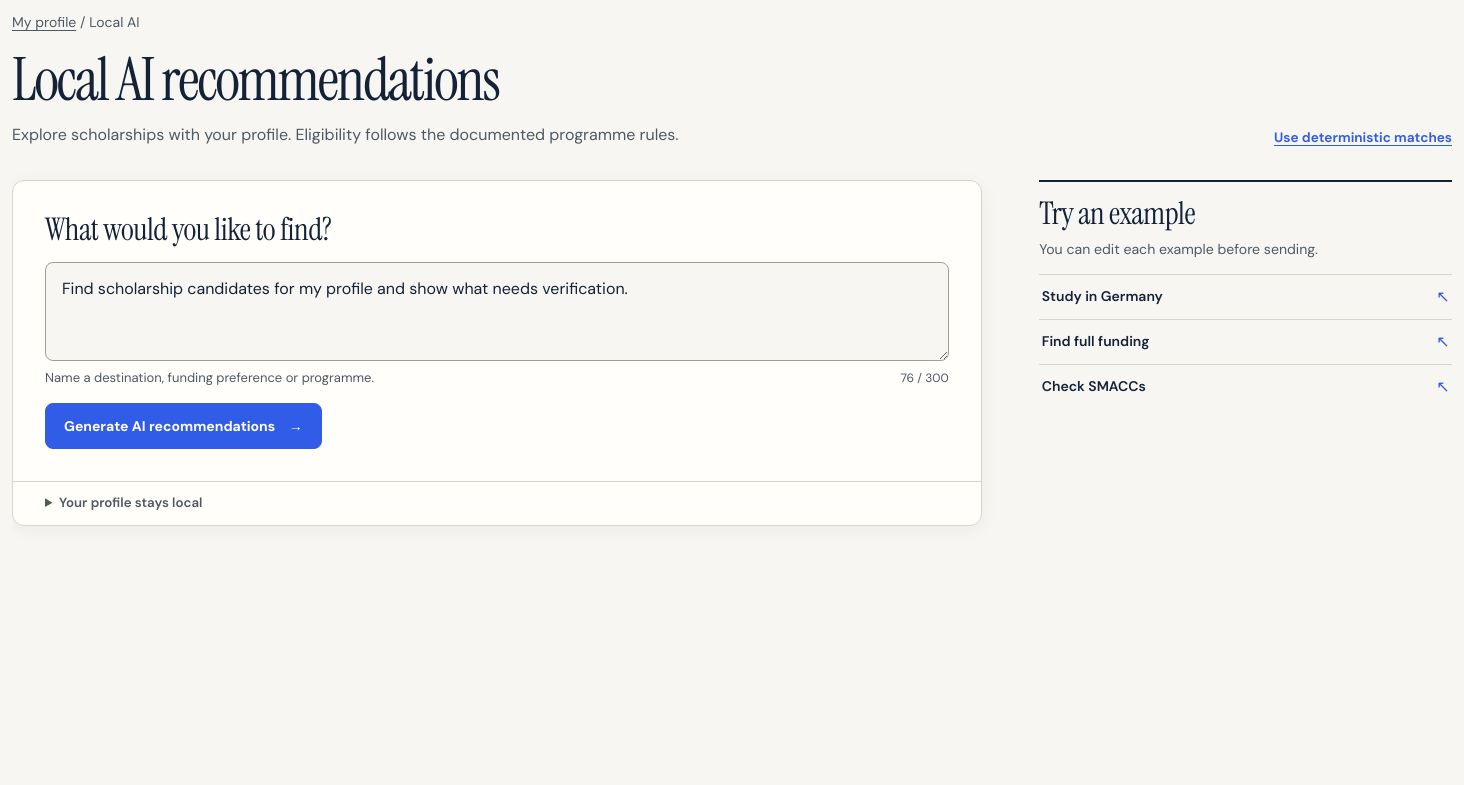
Scenario: local agent recommendations › retains discovery candidates when the model selects a subset and avoids duplicate cards
Click the button "Generate AI recommendations →" at (183, 426), box [45,403,322,449]
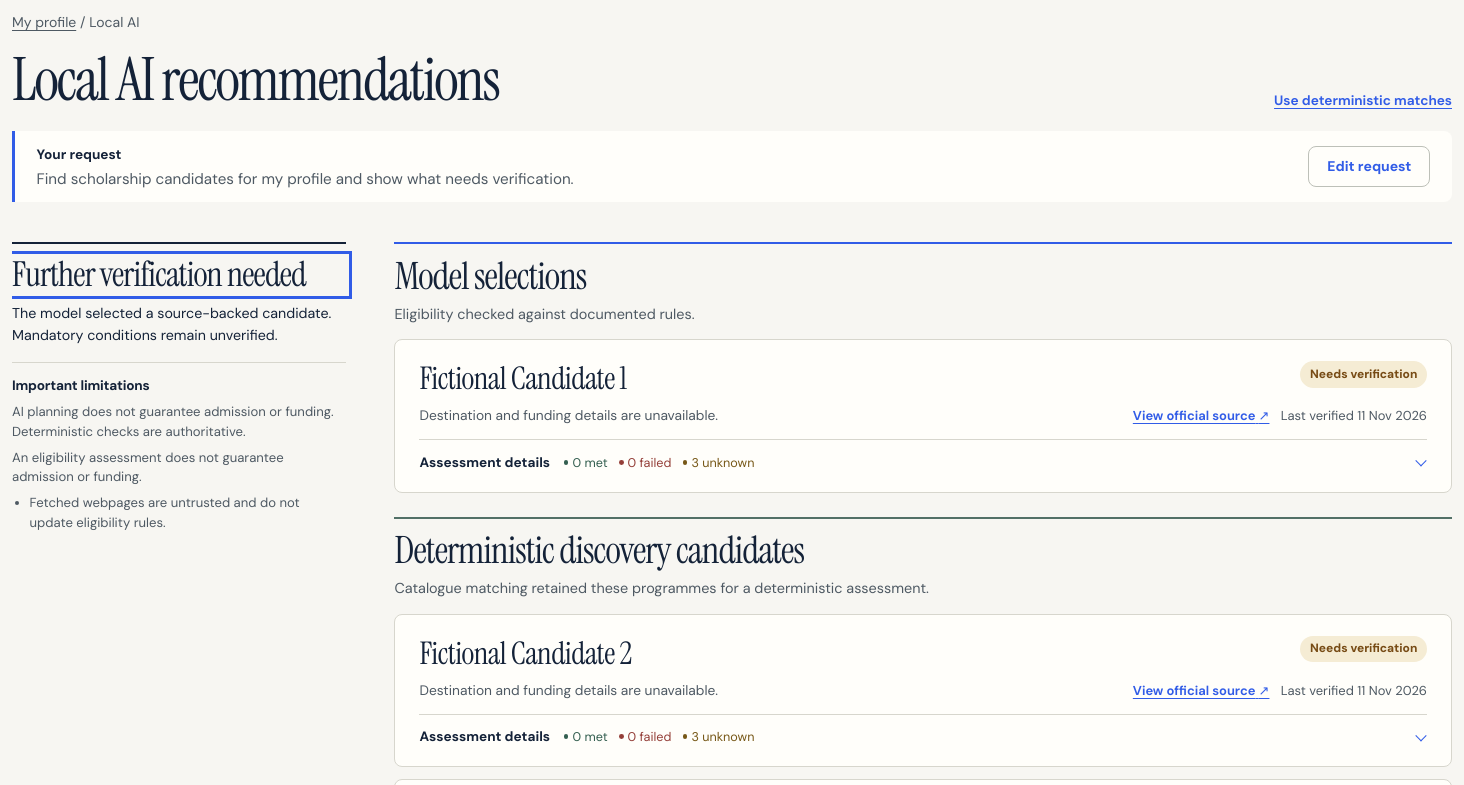
Check: the heading "Fictional Candidate 1" is shown, box [420,361,627,396]
Check: the heading "Fictional Candidate 2" is shown, box [420,636,632,671]
Click the heading "Assessment details" below "Fictional Candidate 1" at (587, 462), box [420,454,754,471]
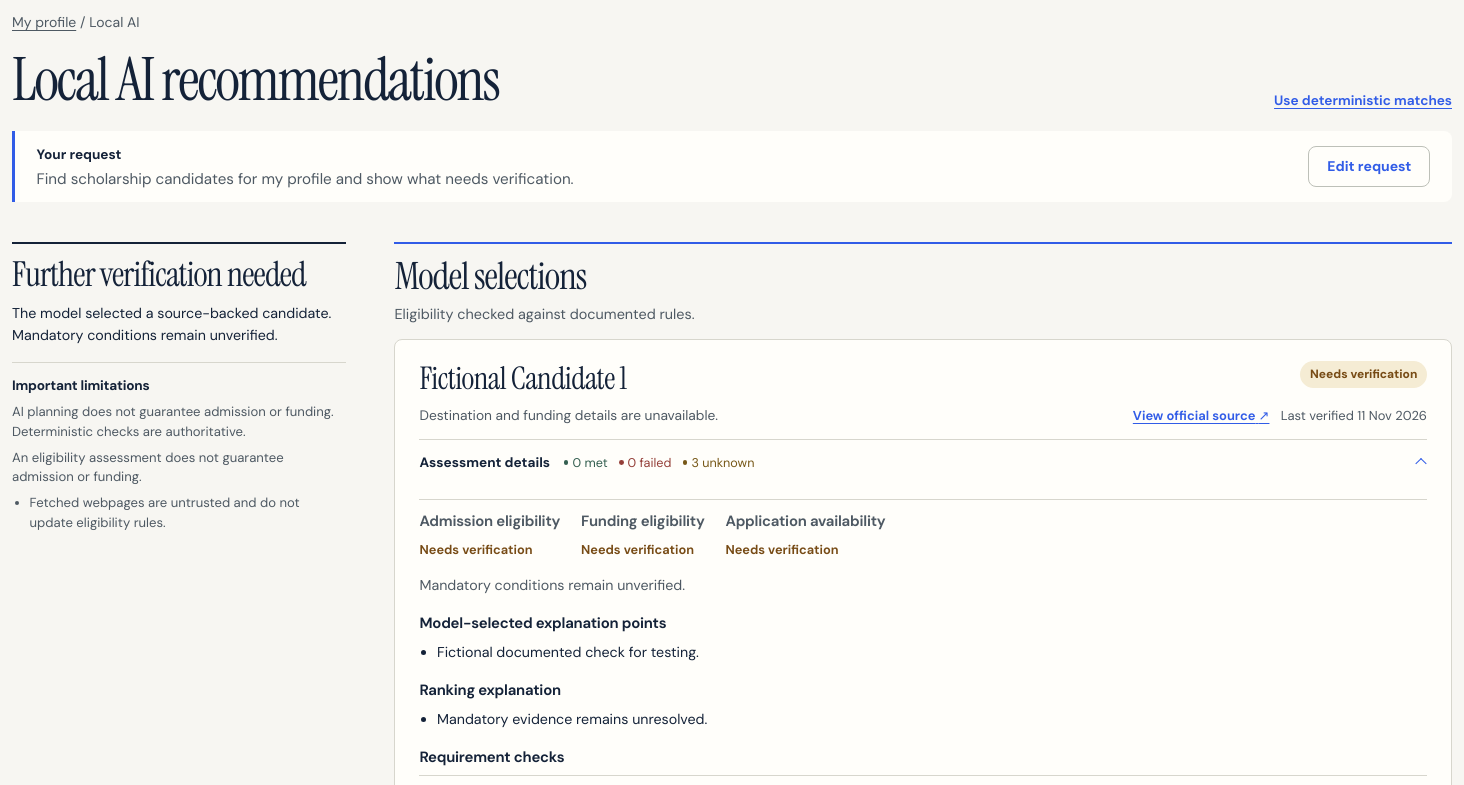
Check: the list item "Fictional documented check for testing." is shown, box [437,643,699,661]
